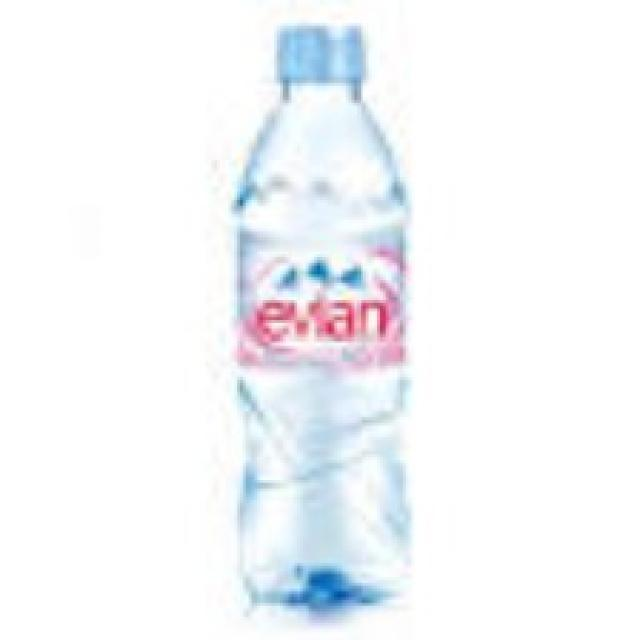plastic_bottle: (225, 34, 432, 607)
